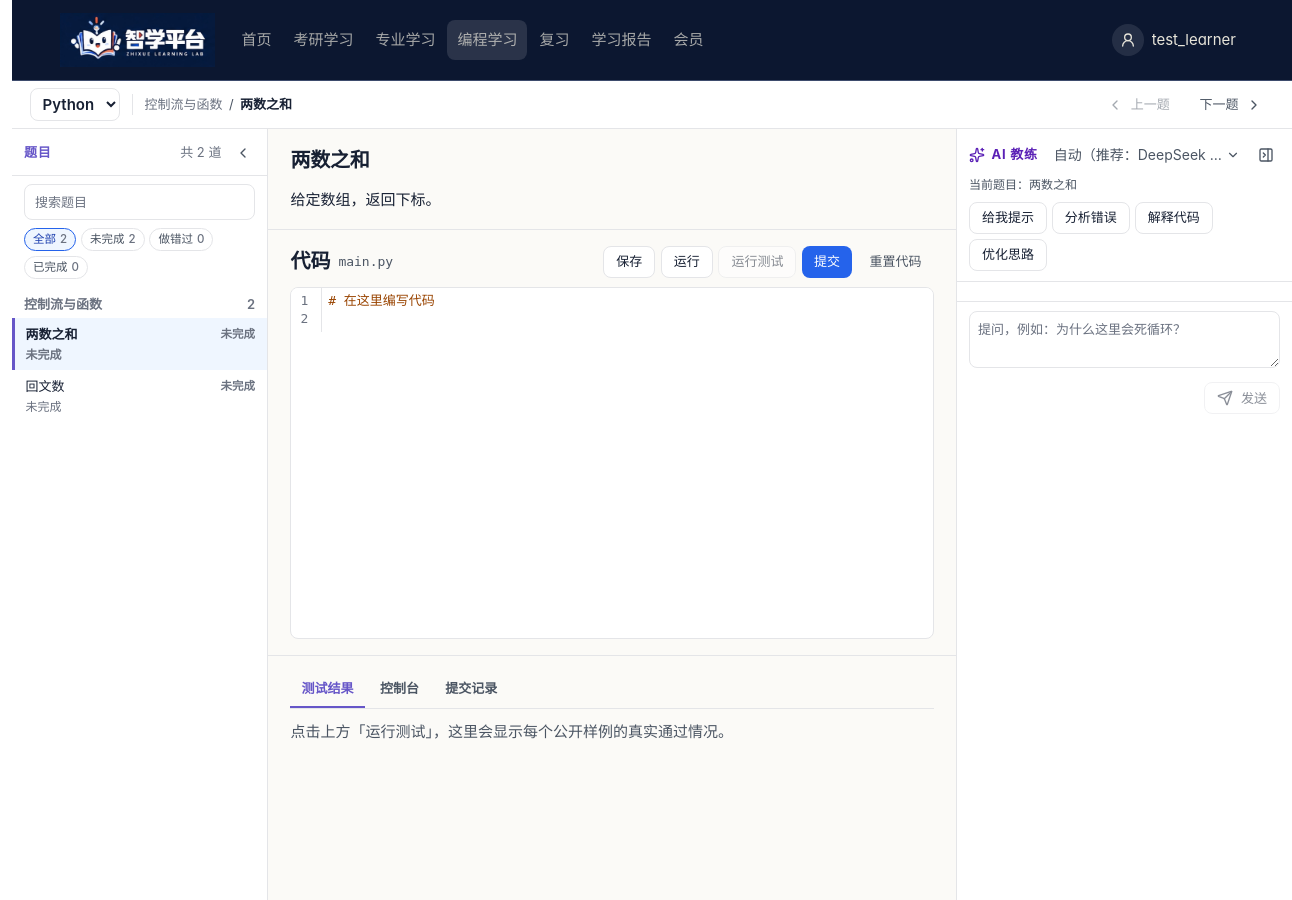
Test case: the project editor › reports a failed project save and does not start the judge action
What coordinates should you click on to do the following:
click the button "运行"
I would click on:
 (687, 262)
Its box is [661,246,713,278].
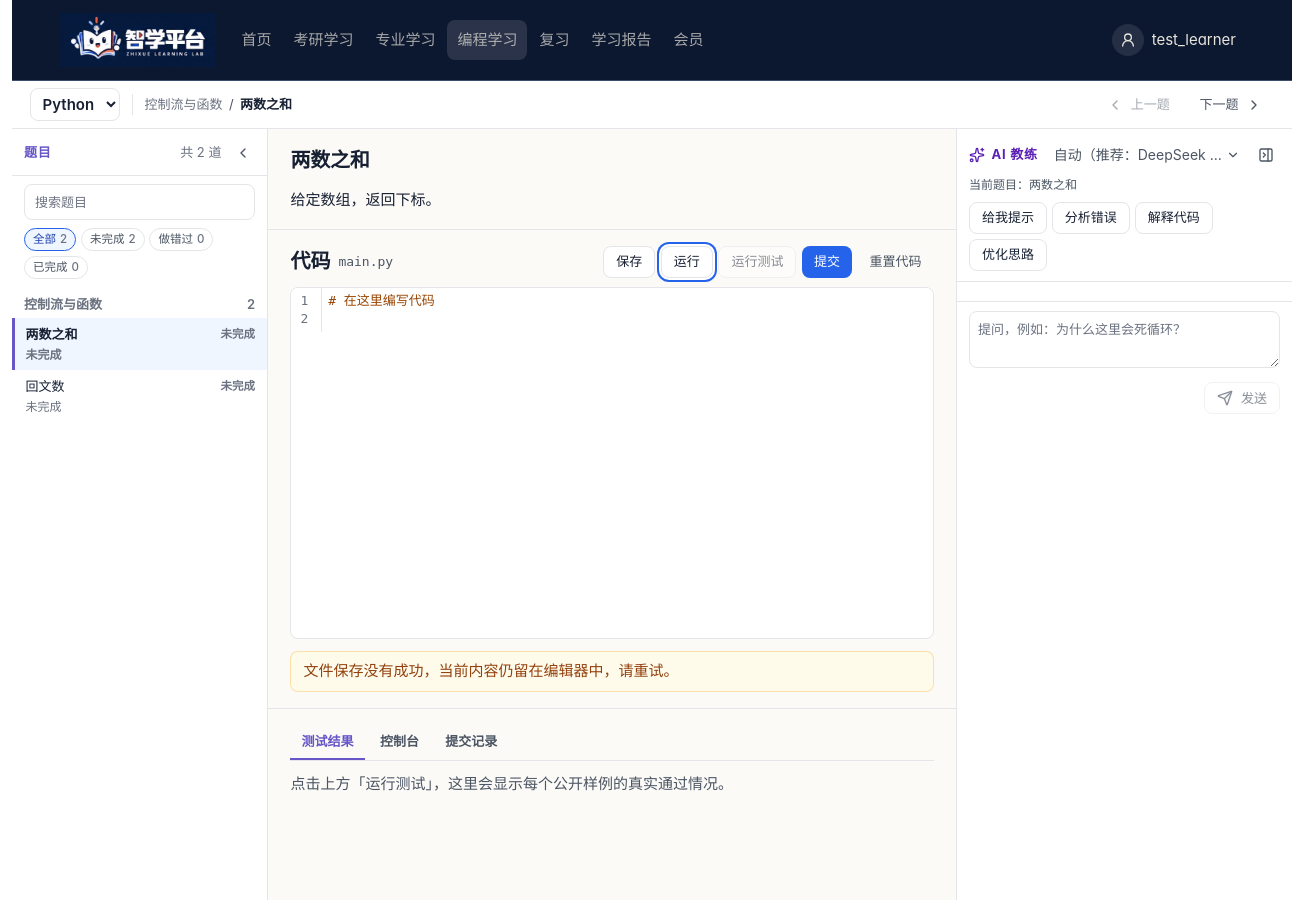
expect the text "文件保存没有成功，当前内容仍留在编辑器中，请重试。" is shown: met, box [290,651,934,692]
